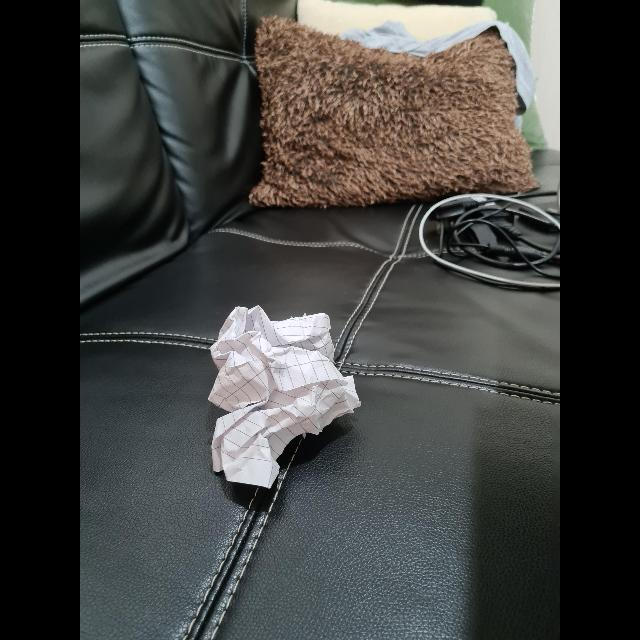scrap_paper: (213, 294, 354, 490)
